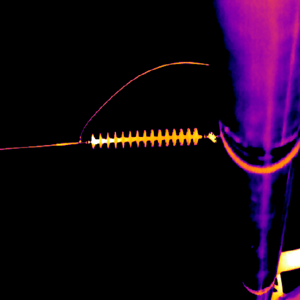insulator: (87, 126, 201, 148)
